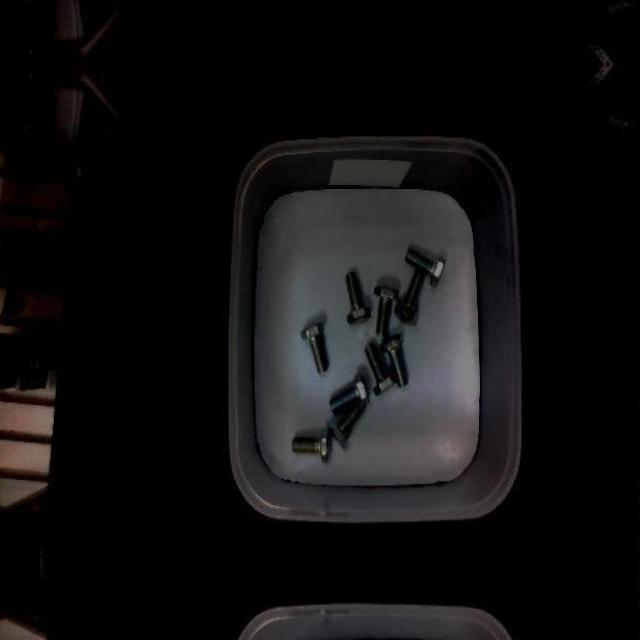screw: (328, 399, 366, 447), (364, 343, 397, 397), (404, 246, 446, 286), (393, 272, 424, 326), (329, 371, 370, 411), (381, 332, 408, 387), (300, 321, 328, 374), (345, 272, 371, 325), (291, 429, 331, 462), (373, 284, 398, 334)
